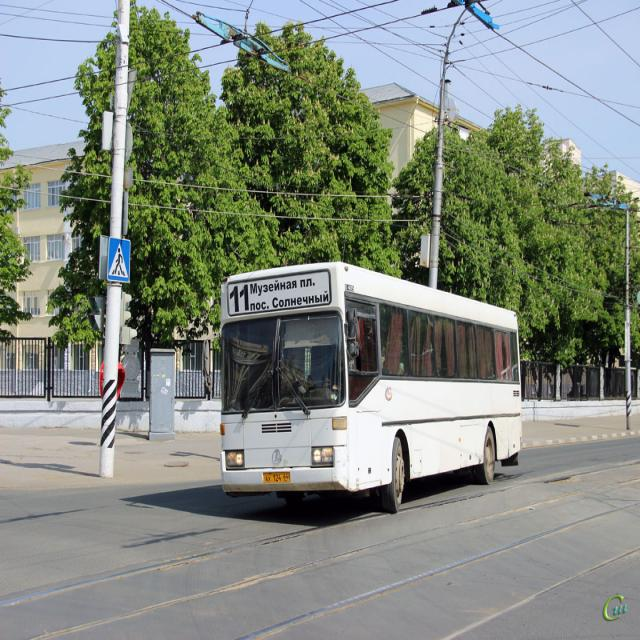number-of-bus: (229, 287, 251, 315)
